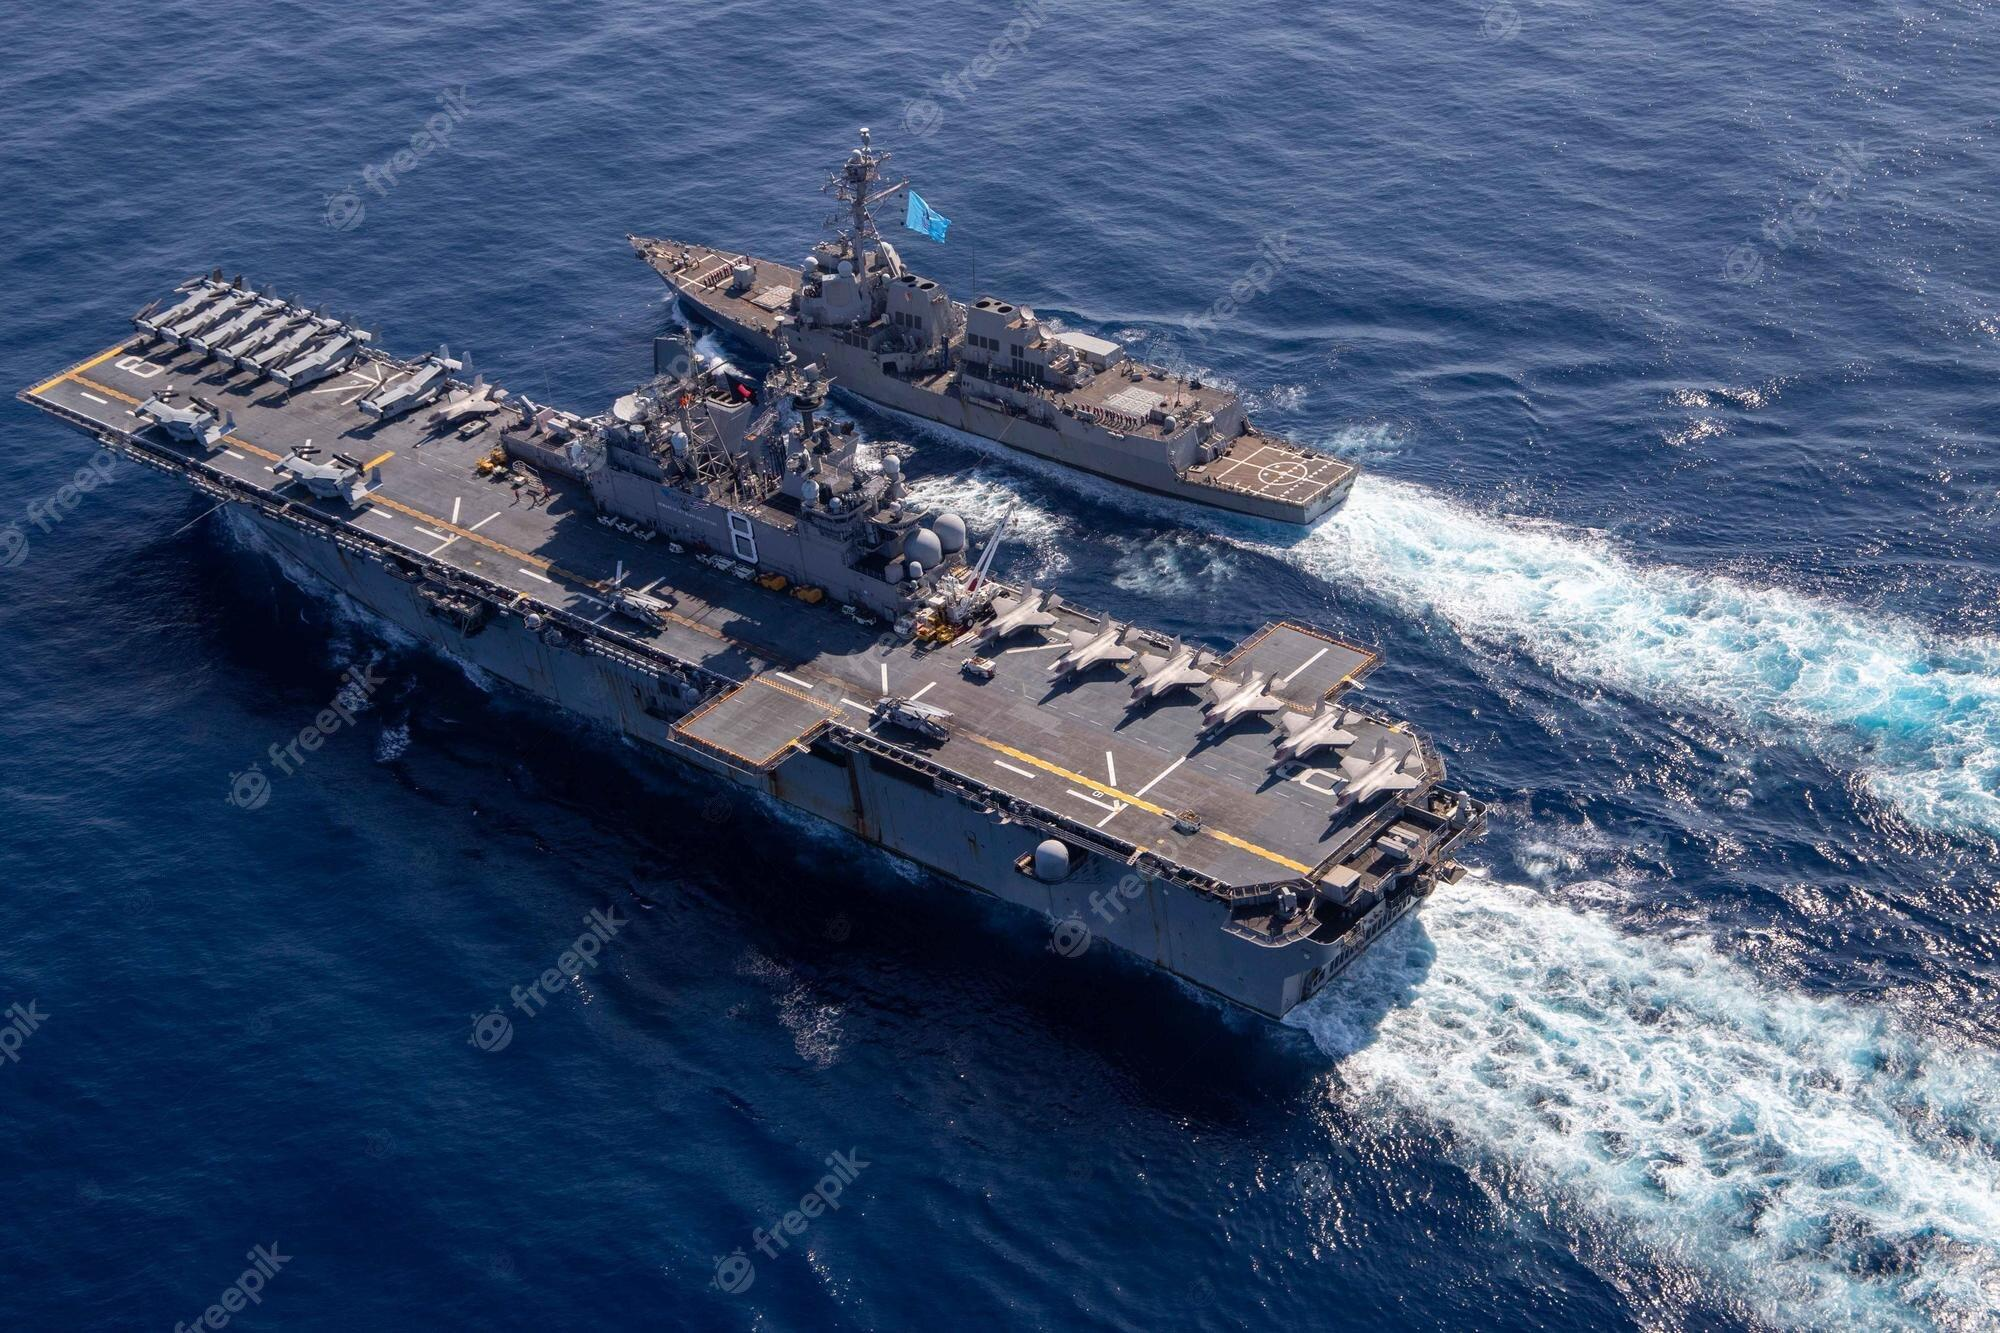Ship: (1, 284, 1480, 1064), (622, 177, 1361, 565)
